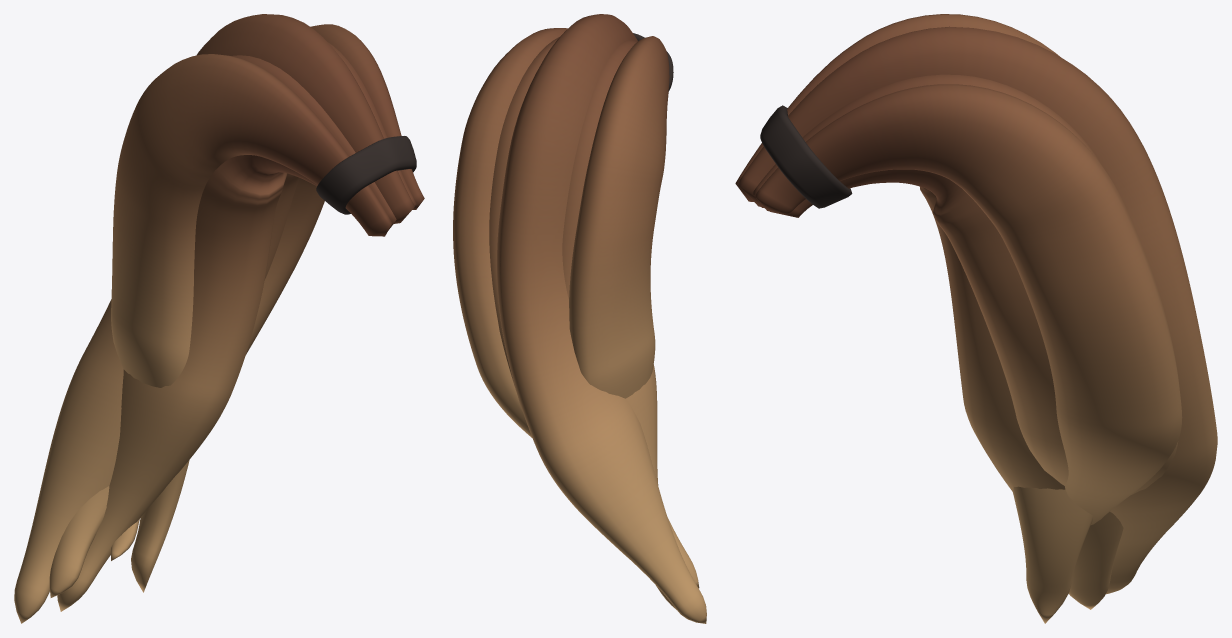
Rendered from ponytail-beanie-ombre.glb.
The picture shows the model from 3 angles, left to right: view 1: azimuth 30°, elevation 25°; view 2: azimuth 150°, elevation 25°; view 3: azimuth 270°, elevation 25°; orthographic projection. The views are drawn at different scales.
Visible parts, largest first — view 1: Hair / rounded tail220 0, Hair / rounded tail220 1, Hair / rounded tail220 2, Hair / rounded tail220 3, Hair / rounded tail220 4, Hair / tie220; view 2: Hair / rounded tail220 2, Hair / rounded tail220 0, Hair / rounded tail220 4, Hair / rounded tail220 1, Hair / rounded tail220 3; view 3: Hair / rounded tail220 4, Hair / rounded tail220 2, Hair / rounded tail220 3, Hair / rounded tail220 1, Hair / rounded tail220 0, Hair / tie220.
Part boxes in pixels (x1,y1,x2,y2): Hair / rounded tail220 0: (111, 54, 392, 592); Hair / rounded tail220 1: (57, 55, 396, 611); Hair / rounded tail220 2: (14, 14, 414, 623); Hair / rounded tail220 3: (49, 42, 416, 597); Hair / rounded tail220 4: (111, 24, 424, 560); Hair / tie220: (316, 136, 416, 214); Hair / rounded tail220 2: (497, 14, 706, 623); Hair / rounded tail220 0: (569, 36, 669, 398); Hair / rounded tail220 4: (453, 28, 567, 437); Hair / rounded tail220 1: (562, 40, 676, 609); Hair / rounded tail220 3: (489, 36, 699, 588); Hair / rounded tail220 4: (754, 84, 1182, 524); Hair / rounded tail220 2: (737, 26, 1217, 594); Hair / rounded tail220 3: (752, 74, 1178, 494); Hair / rounded tail220 1: (761, 186, 1123, 609); Hair / rounded tail220 0: (735, 14, 1092, 623); Hair / tie220: (760, 105, 852, 208).
Size of the model in its own units: 0.2132 by 0.4144 by 0.2657.
Materials: 6 (5 with a texture image).
